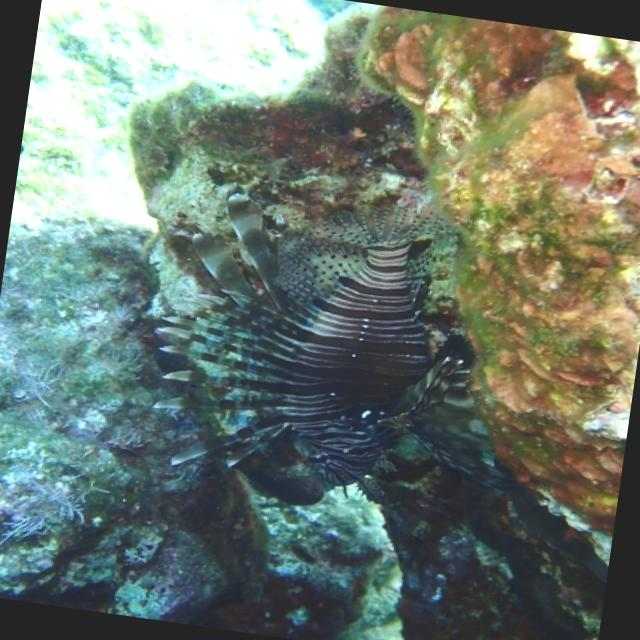Aslan Baligi: (106, 148, 494, 548)
